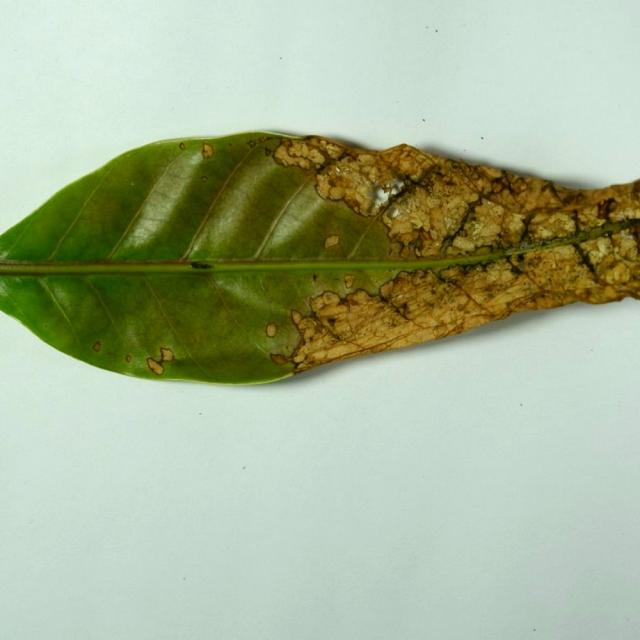Anthracnose: (29, 147, 142, 262), (284, 218, 367, 287), (313, 318, 436, 361), (71, 277, 121, 345), (434, 271, 497, 321), (443, 190, 488, 250), (273, 138, 332, 170), (207, 279, 244, 328), (558, 221, 627, 247), (507, 258, 550, 299), (302, 135, 387, 155), (308, 305, 348, 345), (396, 171, 430, 199), (387, 298, 413, 326), (415, 235, 447, 257), (579, 248, 601, 279), (251, 342, 280, 363), (497, 171, 519, 195), (343, 191, 366, 212), (407, 235, 423, 255), (257, 274, 269, 299), (604, 198, 618, 217), (572, 209, 582, 233), (159, 347, 175, 362), (302, 297, 314, 314), (190, 261, 213, 269), (430, 165, 443, 176), (514, 253, 526, 264), (280, 137, 292, 148), (264, 147, 273, 156), (633, 216, 640, 227), (201, 175, 209, 182), (43, 323, 49, 328)
Mango: (0, 132, 639, 388)
